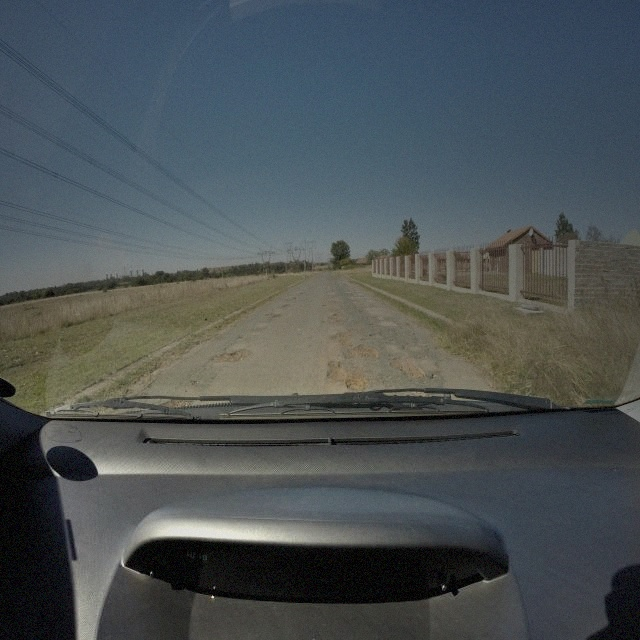pothole: (387, 356, 426, 382), (211, 345, 251, 366), (344, 373, 371, 395), (326, 361, 349, 383), (160, 395, 193, 410), (352, 344, 379, 361), (330, 332, 354, 346), (333, 312, 347, 318), (370, 334, 383, 340), (267, 313, 282, 317)
